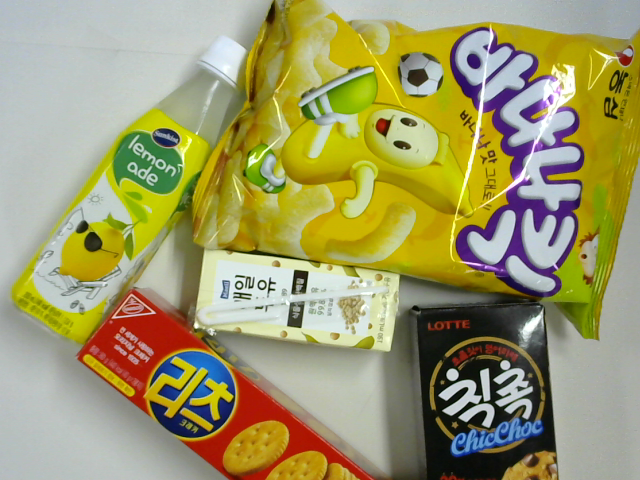99.89_Soymilk: (191, 248, 401, 353)
Banana_Kick: (193, 2, 640, 344)
Chicchok_Original_2400: (405, 302, 560, 480)
Ritz_Cracker: (76, 288, 398, 480)
Sunkist_Lemonaid_Pet: (12, 35, 251, 346)
